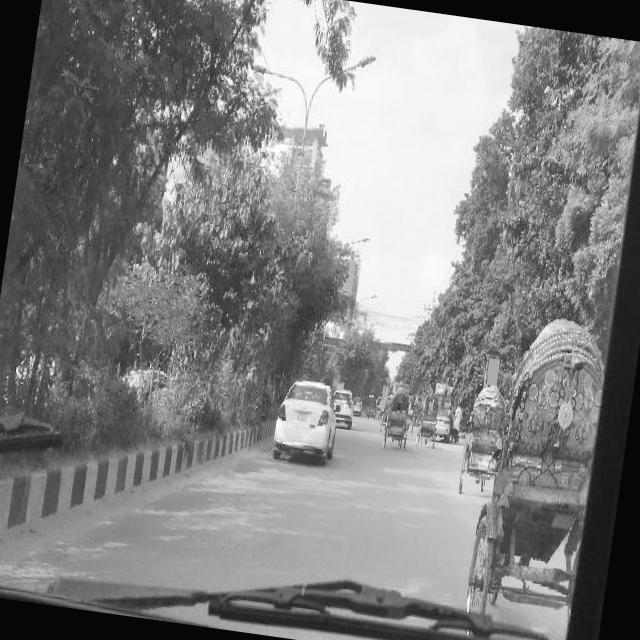car: (270, 376, 338, 464), (333, 389, 358, 427), (434, 406, 453, 442), (354, 397, 364, 414)
motorcycle: (475, 308, 612, 640), (458, 383, 508, 501), (385, 388, 414, 448), (417, 392, 442, 446), (380, 394, 391, 433), (408, 394, 418, 434), (365, 395, 378, 419)
